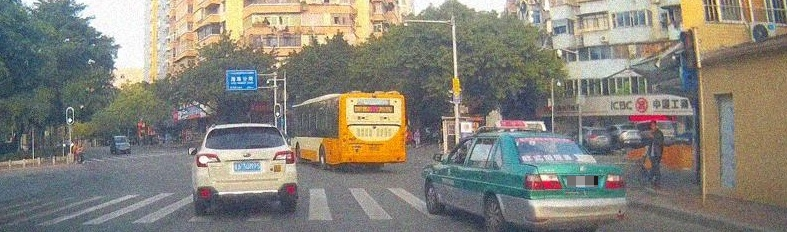L_light: (523, 173, 562, 189), (196, 153, 221, 167), (341, 130, 348, 148)
R_light: (603, 173, 625, 188), (273, 151, 294, 164), (399, 132, 405, 149)
T_light: (537, 137, 554, 141), (238, 127, 252, 130), (370, 97, 379, 101)
day-left: (192, 123, 297, 214)
day-no: (510, 132, 627, 232), (339, 93, 405, 169)
plate_1: (567, 176, 598, 187)
